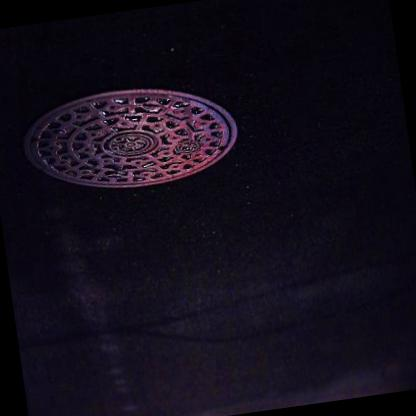manholes: (3, 39, 258, 241)
